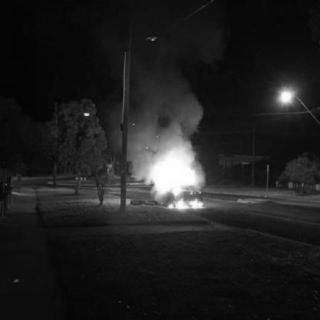other: (271, 80, 304, 112)
